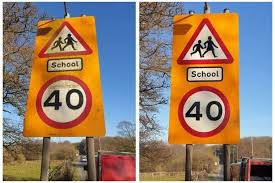sp40: (176, 87, 236, 136), (39, 77, 96, 125)
